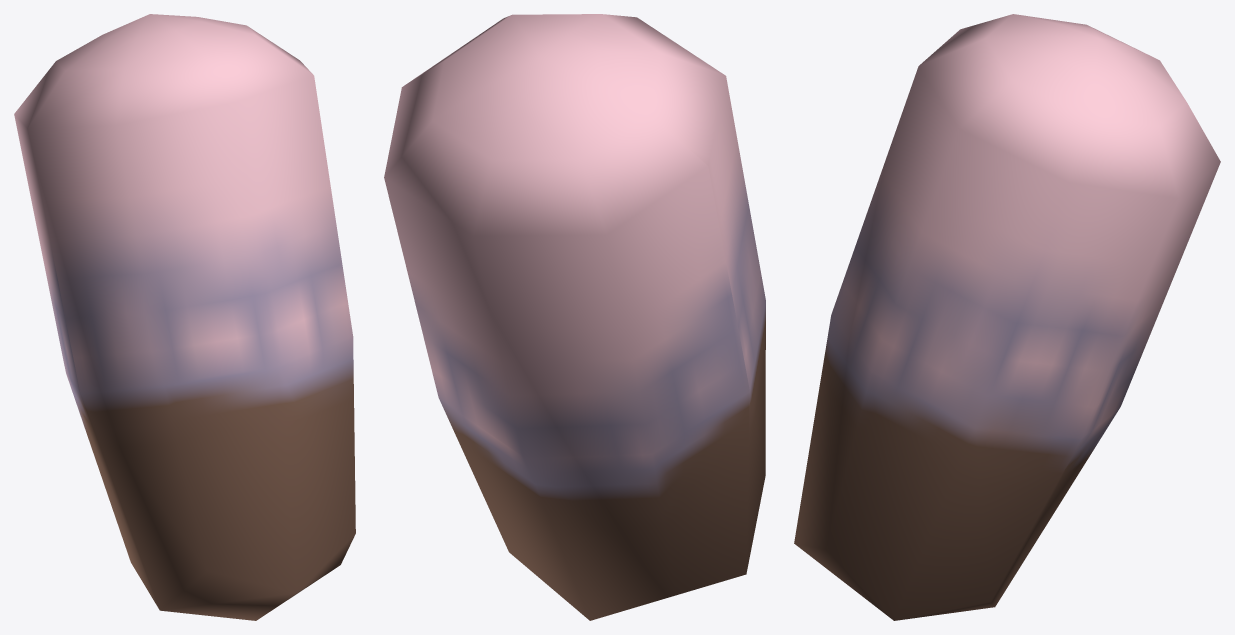
File: LowerRightArm.fbx
3 renders of one model, left to right at view 1: azimuth 30°, elevation 25°; view 2: azimuth 150°, elevation 25°; view 3: azimuth 270°, elevation 25°, orthographic. The views are drawn at different scales.
Visible parts, largest first — view 1: LowerRightArm; view 2: LowerRightArm; view 3: LowerRightArm.
Part boxes in pixels (x1,y1,x2,y2): LowerRightArm: (14, 14, 355, 620); LowerRightArm: (384, 14, 765, 620); LowerRightArm: (794, 14, 1220, 620).
Size of the model in its own units: 101 by 191 by 130.
